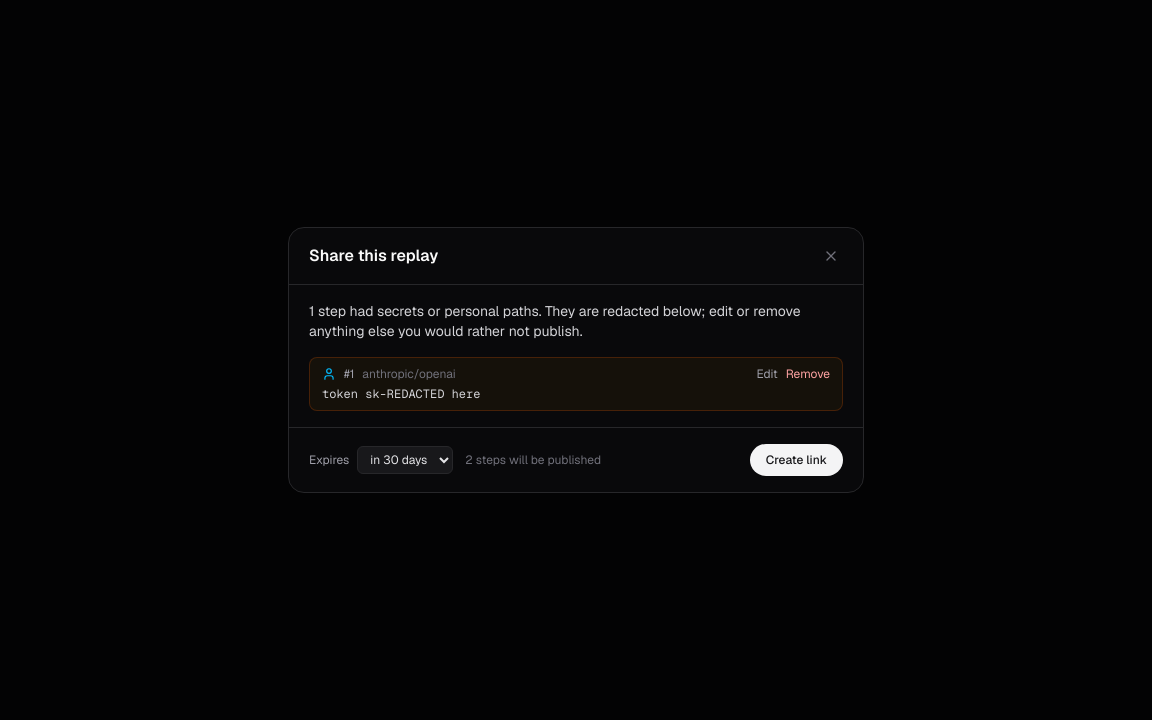
Test: ShareDialog › lists flagged steps with redacted previews and lets you remove one
This screenshot has width=1152, height=720.
Expected: the text "1 step" is shown, [309,302,800,340]
Expected: the text "token sk-REDACTED here" is shown, [322,386,480,402]
Click the button with aria-label "remove step" at (808, 374), box [786,366,830,382]
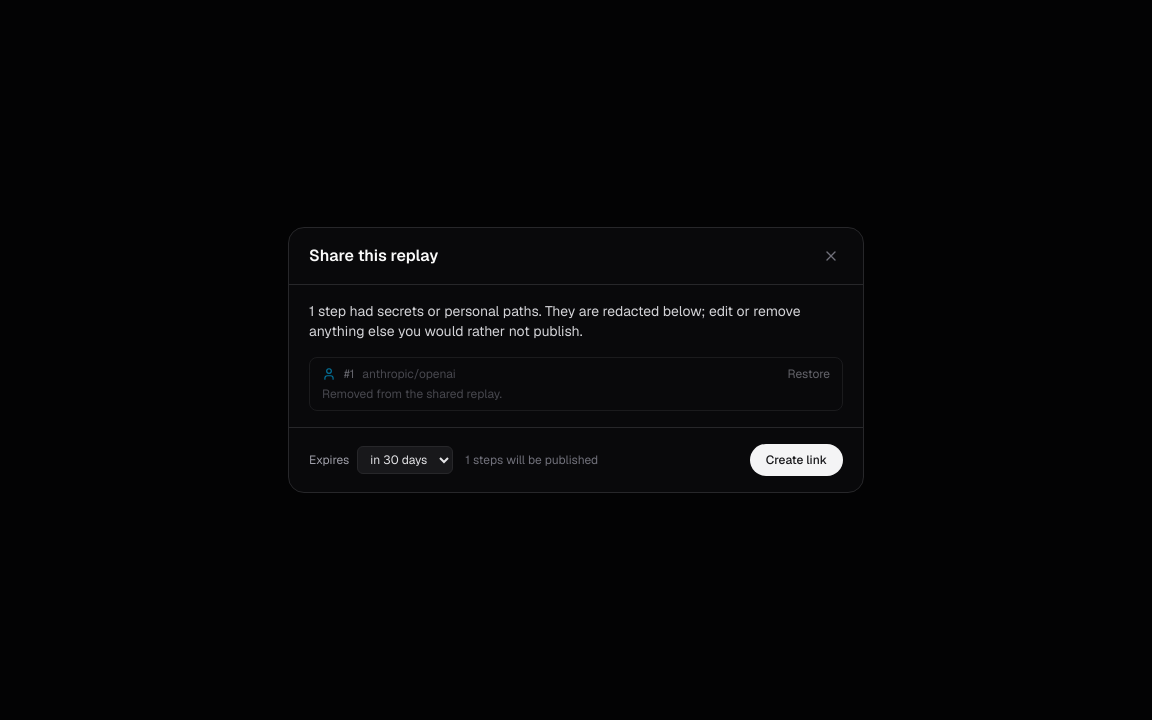
Expected: the text "Removed from the shared replay." is shown, [322,386,502,402]
